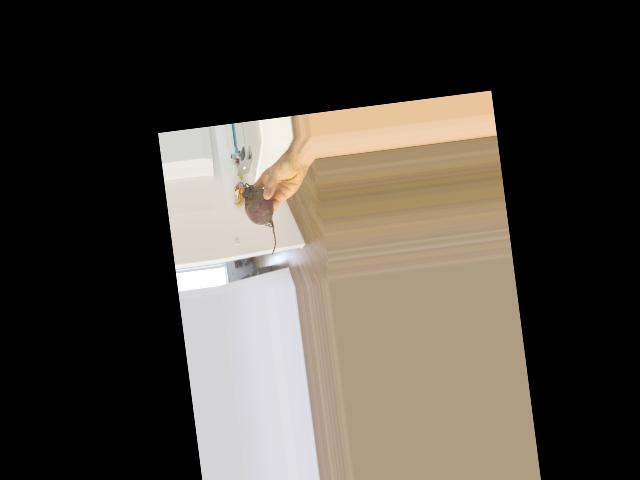beet: (241, 180, 279, 257)
